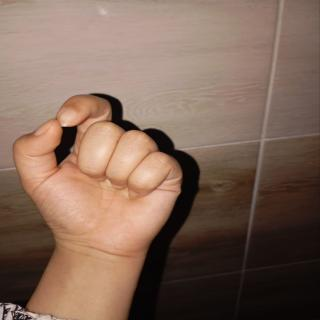FAA: (12, 85, 200, 272)
